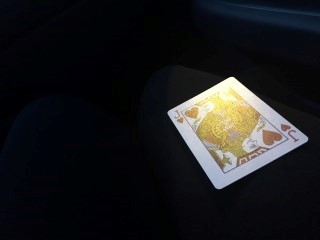JackOfHearts: (167, 77, 309, 190)
